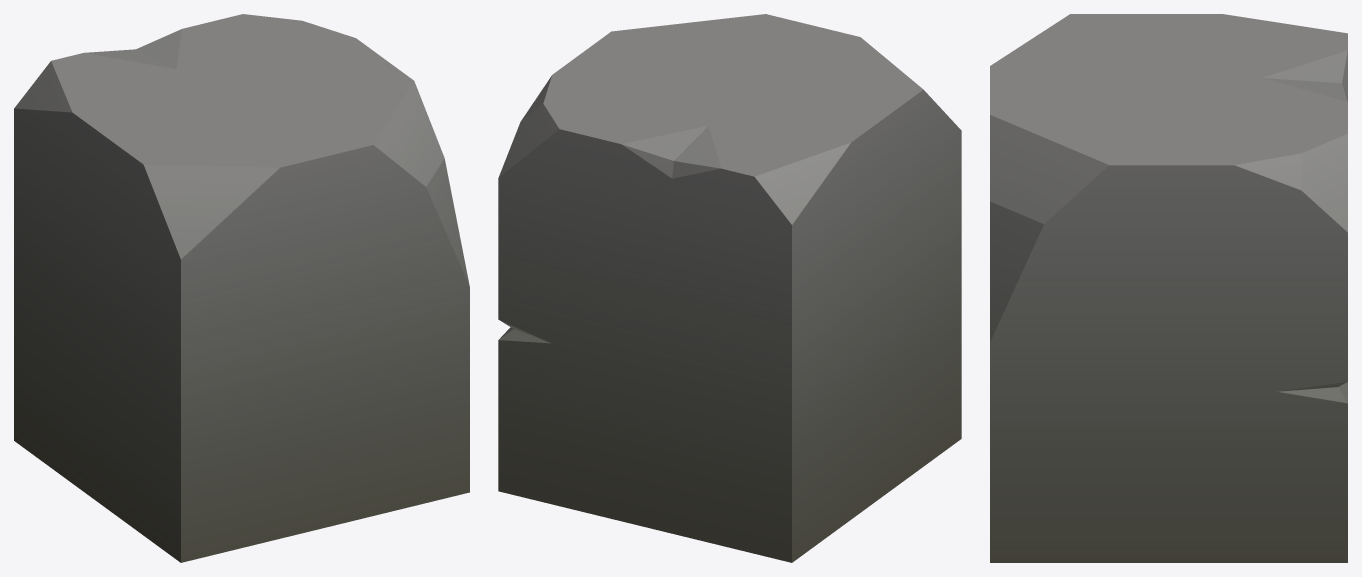
The model's file is Mountain_01.fbx.
The picture shows the model from 3 angles, left to right: view 1: azimuth 30°, elevation 25°; view 2: azimuth 150°, elevation 25°; view 3: azimuth 270°, elevation 25°; orthographic projection. The views are drawn at different scales.
Visible parts, largest first — view 1: Mountain_01; view 2: Mountain_01; view 3: Mountain_01.
Boxes of the visible parts, box(x1,y1,x2,y2) form: Mountain_01: box(14, 14, 469, 562); Mountain_01: box(498, 14, 961, 562); Mountain_01: box(990, 14, 1347, 562).
Size of the model in its own units: 478 by 587 by 478.
